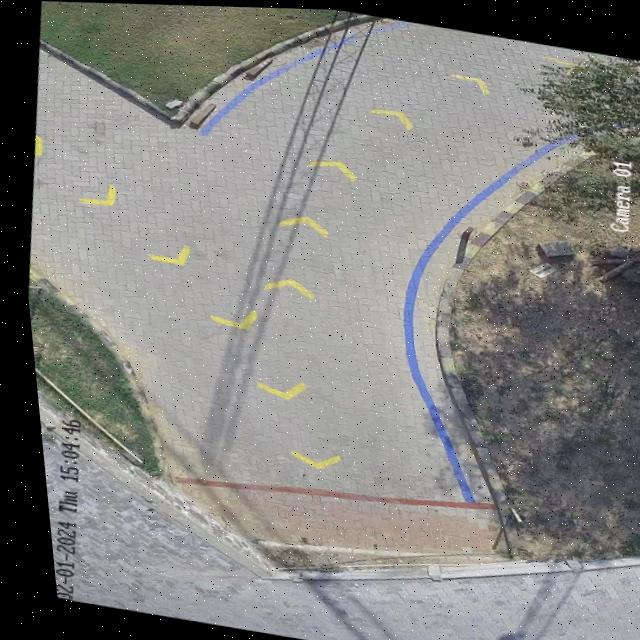No Car: (23, 1, 640, 640)
